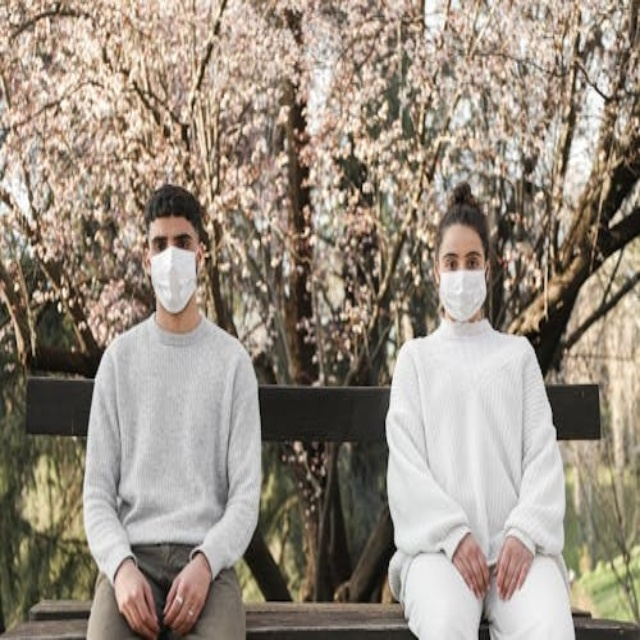Mascara: (149, 246, 198, 314), (438, 266, 488, 322)
Sin_gafas: (433, 246, 486, 267), (148, 229, 197, 246)
Sin_guantes: (164, 552, 211, 630), (114, 557, 156, 632), (451, 532, 490, 597), (495, 536, 533, 597)
